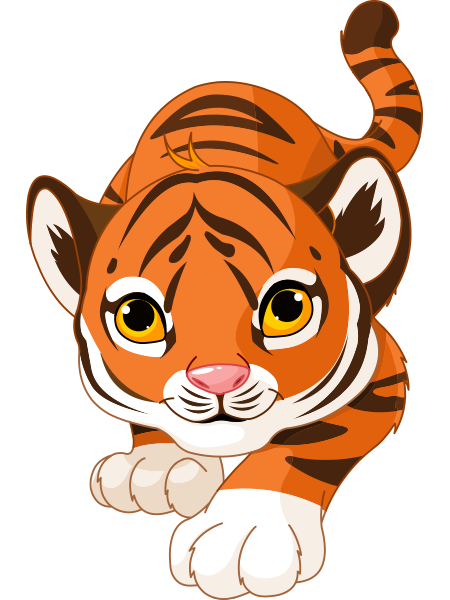Tigrew: (46, 9, 431, 600)
